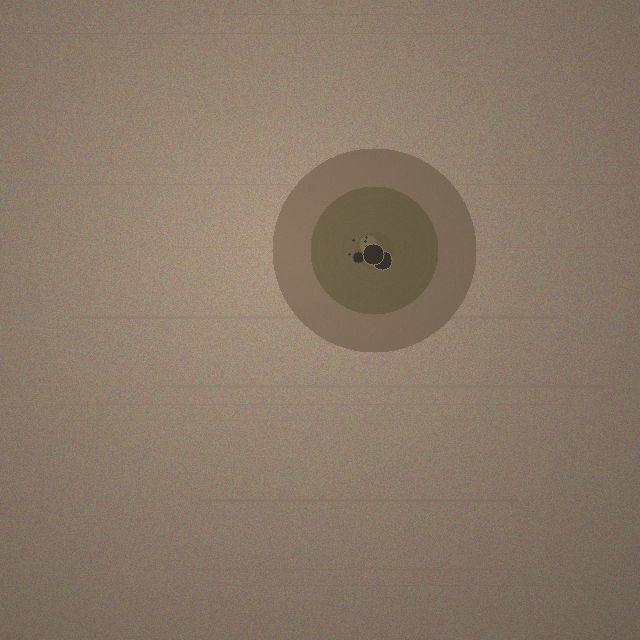shrinkage: (272, 148, 476, 352)
